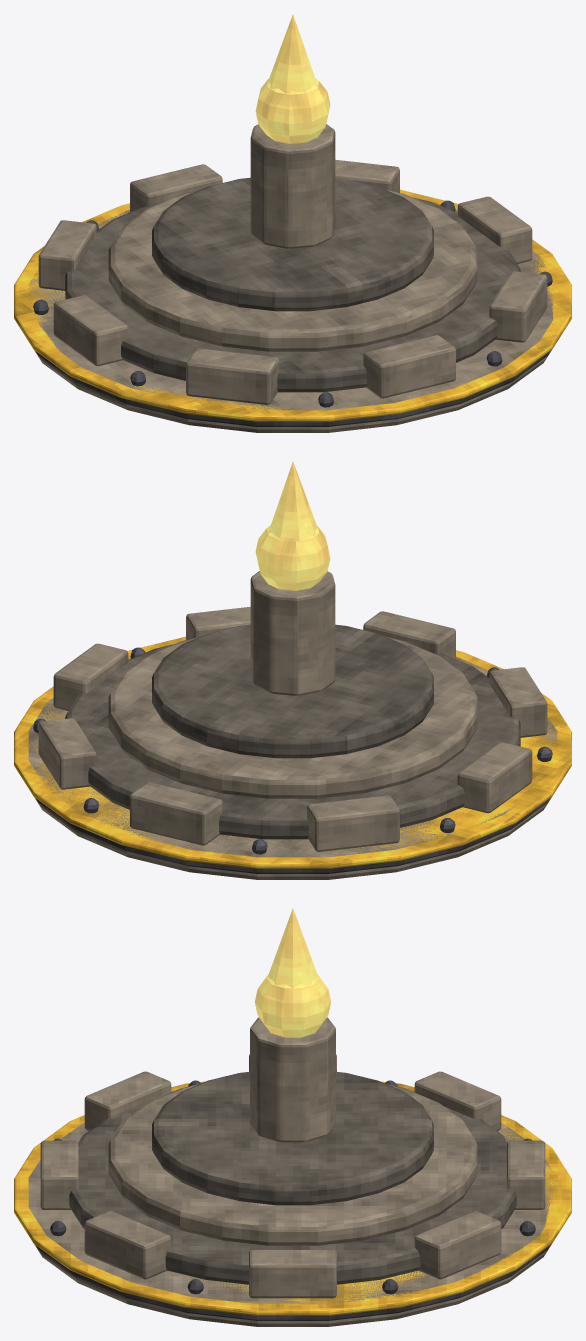
Rendered from top_tiered.gltf.
The picture shows the model from 3 angles, top to bottom: view 1: azimuth 30°, elevation 25°; view 2: azimuth 150°, elevation 25°; view 3: azimuth 270°, elevation 25°; orthographic projection.
Visible parts, largest first — view 1: Crown_stone_lite, Crown_stone, Tier3_stone_lite, Tier4_gold, Tier2_iron, glow, tip; view 2: Crown_stone, Crown_stone_lite, Tier3_stone_lite, Tier4_gold, Tier2_iron, glow, tip; view 3: Crown_stone_lite, Crown_stone, Tier3_stone_lite, Tier4_gold, Tier2_iron, glow, tip.
Part boxes in pixels (left/top/right/bottom): Crown_stone_lite: left=28, top=124, right=553, bottom=432; Crown_stone: left=65, top=177, right=520, bottom=392; Tier3_stone_lite: left=38, top=159, right=547, bottom=404; Tier4_gold: left=14, top=189, right=571, bottom=421; Tier2_iron: left=33, top=200, right=552, bottom=426; glow: left=255, top=78, right=330, bottom=143; tip: left=268, top=14, right=317, bottom=93; Crown_stone: left=65, top=624, right=520, bottom=839; Crown_stone_lite: left=28, top=571, right=557, bottom=879; Tier3_stone_lite: left=38, top=606, right=547, bottom=851; Tier4_gold: left=14, top=636, right=571, bottom=868; Tier2_iron: left=33, top=647, right=552, bottom=873; glow: left=255, top=525, right=330, bottom=590; tip: left=268, top=461, right=317, bottom=540; Crown_stone_lite: left=28, top=1017, right=555, bottom=1326; Crown_stone: left=69, top=1071, right=516, bottom=1284; Tier3_stone_lite: left=40, top=1054, right=545, bottom=1298; Tier4_gold: left=14, top=1081, right=571, bottom=1315; Tier2_iron: left=36, top=1080, right=549, bottom=1320; glow: left=255, top=974, right=330, bottom=1037; tip: left=268, top=908, right=317, bottom=987.
Size of the model in its own units: 1.02 by 0.62 by 1.02.
6 materials, 6 textured.
